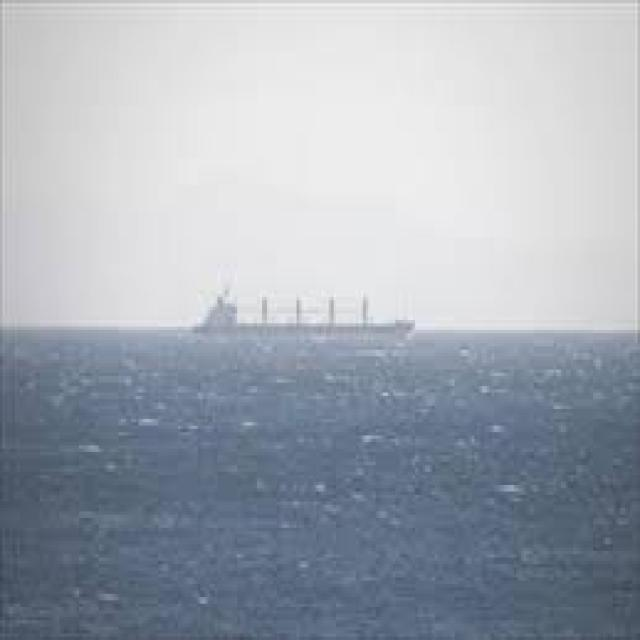cargoship: (191, 279, 419, 344)
